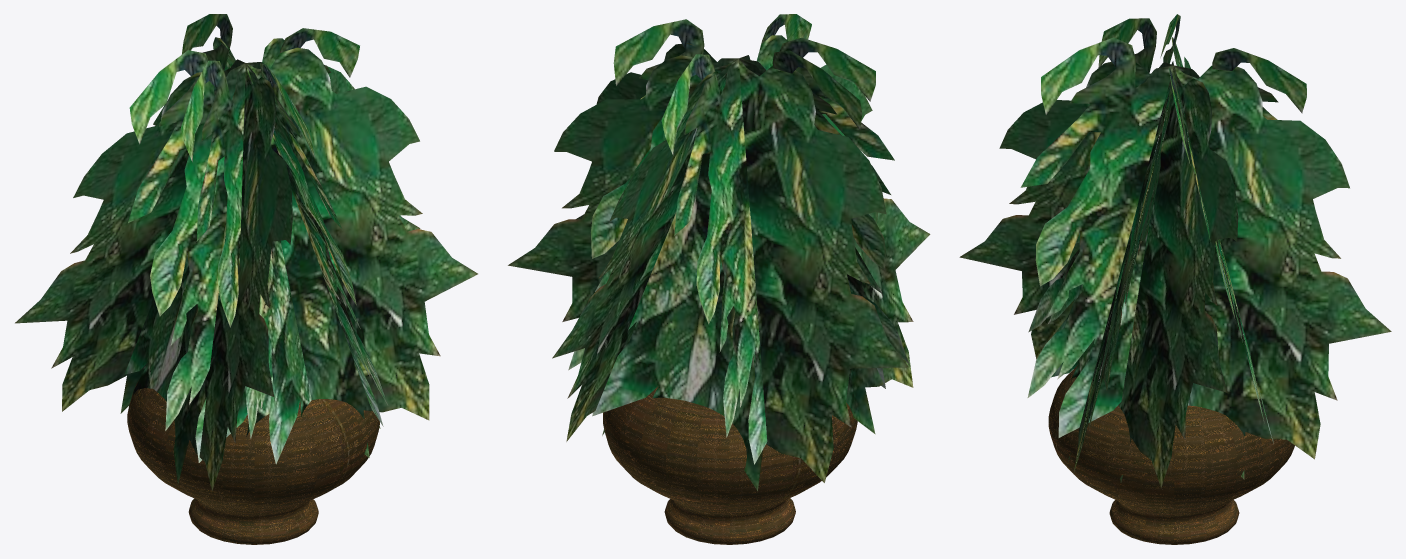
File: plantas4.dae
3 views of the same model, side by side, from view 1: azimuth 30°, elevation 25°; view 2: azimuth 150°, elevation 25°; view 3: azimuth 270°, elevation 25° (orthographic). The views are drawn at different scales.
Parts seen in each view (by area): view 1: group_2, group_5, group_3, group_7, group_6, group_4; view 2: group_5, group_3, group_7, group_6, group_4, group_2; view 3: group_4, group_6, group_7, group_3, group_2, group_5.
Part boxes in pixels (x1,y1,x2,y2): group_2: (128,47,477,462); group_5: (15,28,359,413); group_3: (124,14,292,491); group_7: (127,381,379,544); group_6: (181,38,420,464); group_4: (213,37,387,426); group_5: (568,19,908,490); group_3: (661,35,930,464); group_7: (603,386,857,544); group_6: (508,37,894,321); group_4: (552,14,811,441); group_2: (576,43,908,388); group_4: (1020,37,1391,479); group_6: (1028,18,1238,487); group_7: (1048,364,1294,544); group_3: (959,48,1306,359); group_2: (1068,14,1180,473); group_5: (1169,37,1273,443).
Size of the model in its own units: 38.88 by 36.86 by 44.5.
3 materials, 3 textured.
